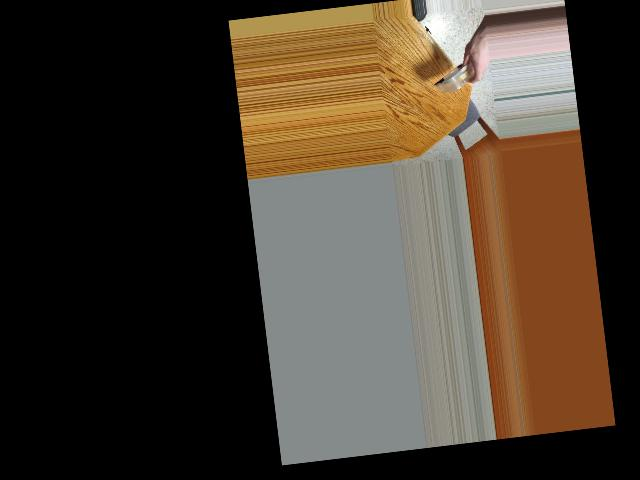cheese: (433, 62, 478, 94)
